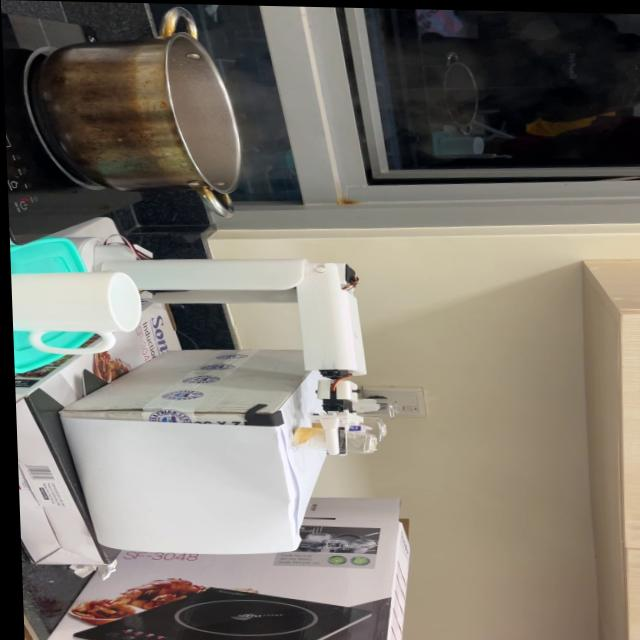cooking_pot: (32, 5, 246, 219)
garlic_powder: (289, 426, 316, 442)
